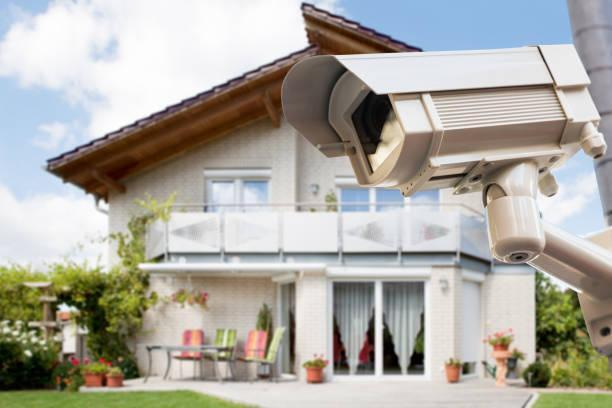camera: (262, 21, 607, 232)
